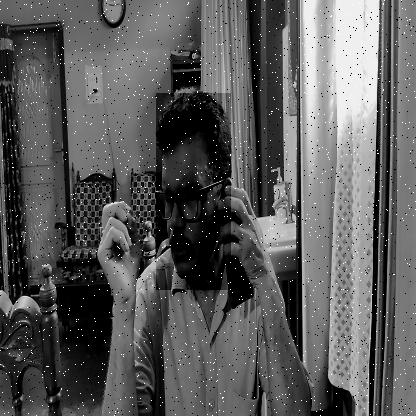Distracted: (156, 93, 231, 290)
